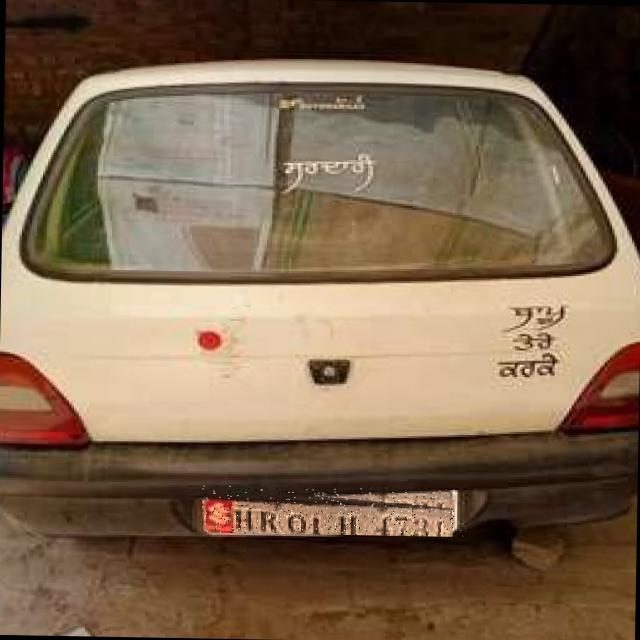Plate: (202, 486, 455, 537)
